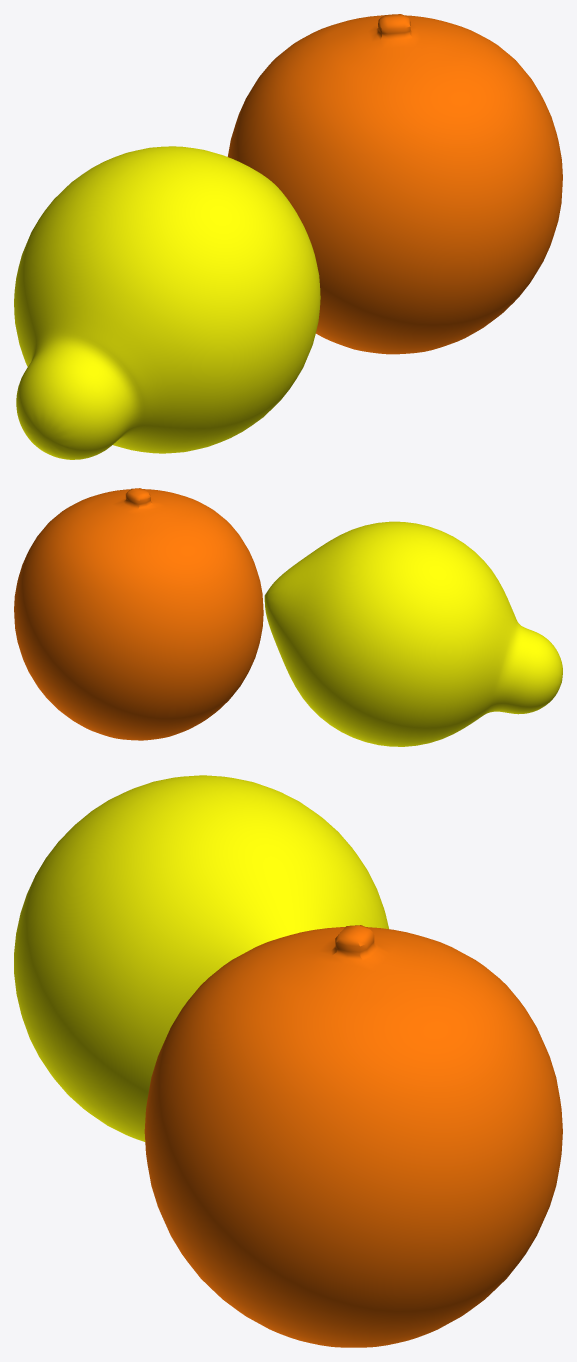
The model's file is orange10.glb.
3 views of the same model, one above another, from view 1: azimuth 30°, elevation 25°; view 2: azimuth 150°, elevation 25°; view 3: azimuth 270°, elevation 25° (orthographic). The views are drawn at different scales.
Bounding box in the file's own units: 0.6284 × 0.3159 × 0.3923.
